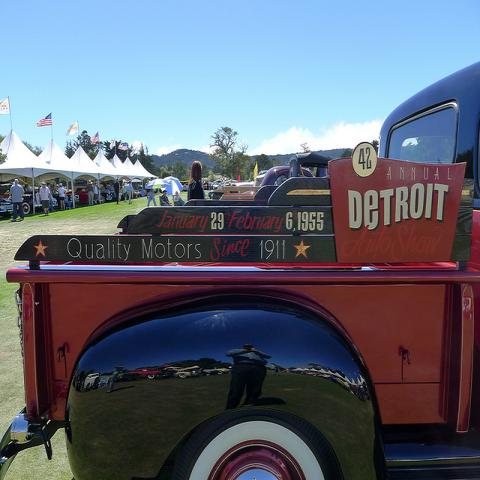car: (65, 186, 89, 204), (51, 192, 58, 206)
truck: (0, 60, 479, 475)
